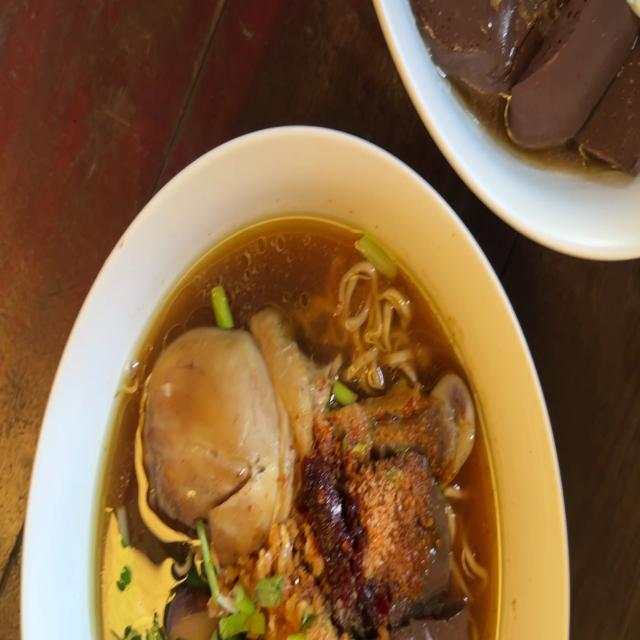noodle: (417, 0, 639, 165)
